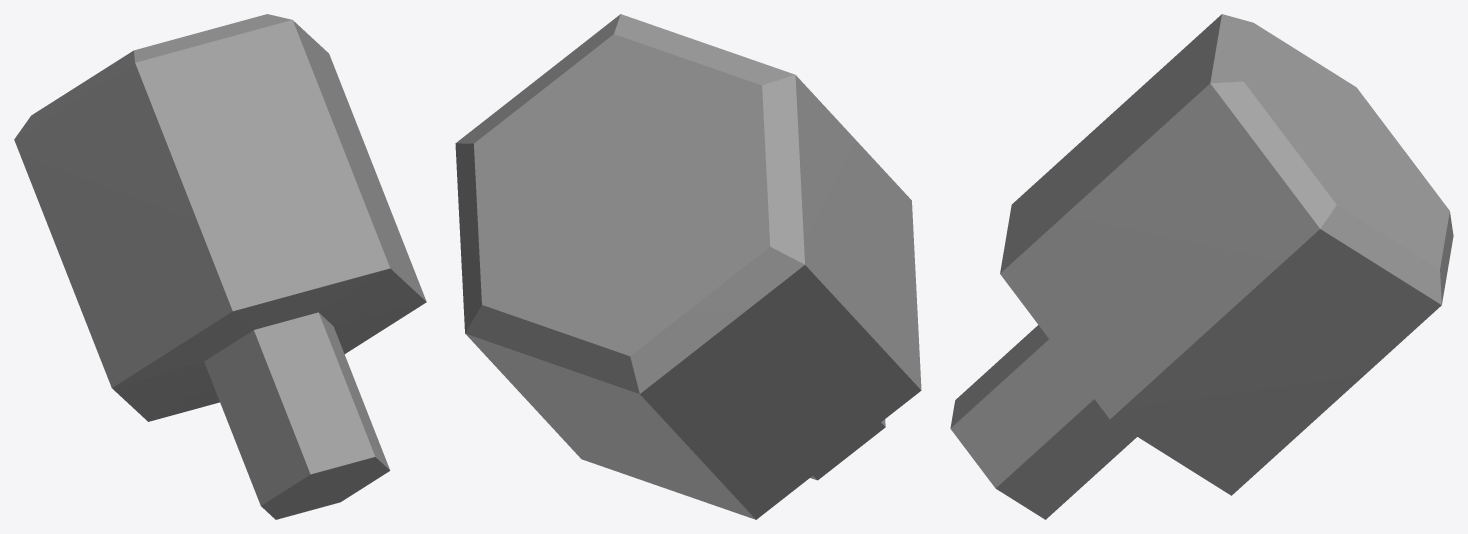
File: Pistol6_02_2.fbx
The picture shows the model from 3 angles, left to right: view 1: azimuth 30°, elevation 25°; view 2: azimuth 150°, elevation 25°; view 3: azimuth 270°, elevation 25°; orthographic projection. The views are drawn at different scales.
Parts seen in each view (by area): view 1: Pistol6_02_2; view 2: Pistol6_02_2; view 3: Pistol6_02_2.
Part boxes in pixels (x1,y1,x2,y2): Pistol6_02_2: [14, 14, 426, 519]; Pistol6_02_2: [455, 14, 921, 519]; Pistol6_02_2: [950, 14, 1453, 519].
Bounding box in the file's own units: 0.00979 × 0.013 × 0.013.
